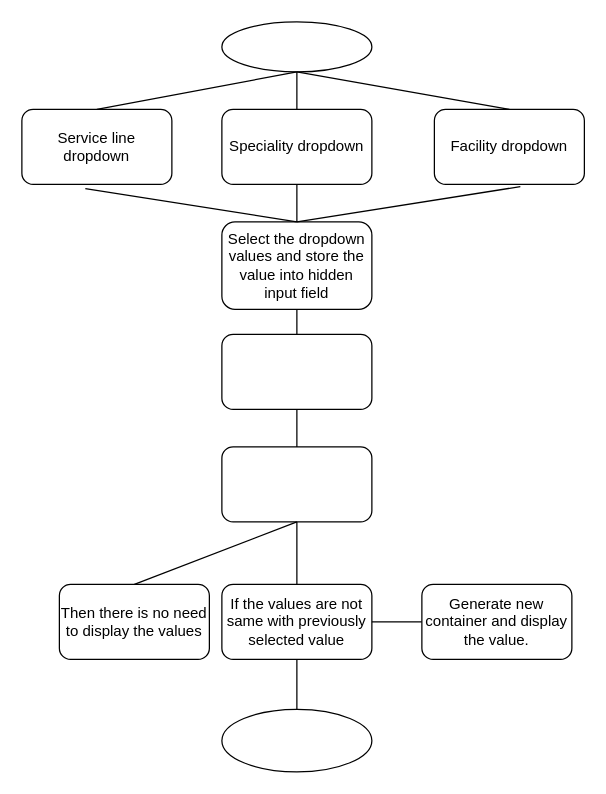
The diagram is 606 pixels wide and 794 high, and some of its shapes have lost their labels. The centre of each missing label's shape, as x and y in pixels:
"check the dropdown values with hidden input type values" goes at point (296, 371).
"If the values are same with previously selected value" goes at point (296, 484).
"Start" goes at point (296, 46).
"Stop" goes at point (296, 740).
